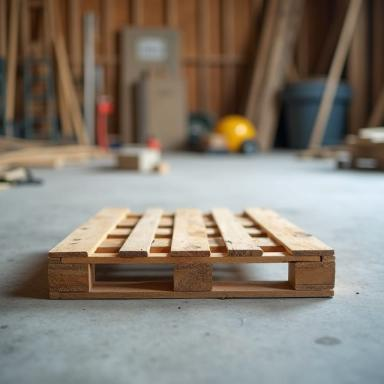pallet: (48, 206, 336, 299), (94, 263, 173, 281), (212, 263, 288, 281)
